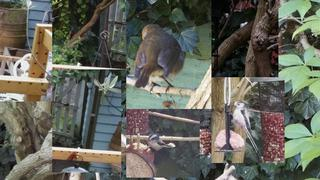long tailed tit: (230, 101, 261, 157), (145, 133, 176, 154)
robin: (133, 24, 187, 95)
